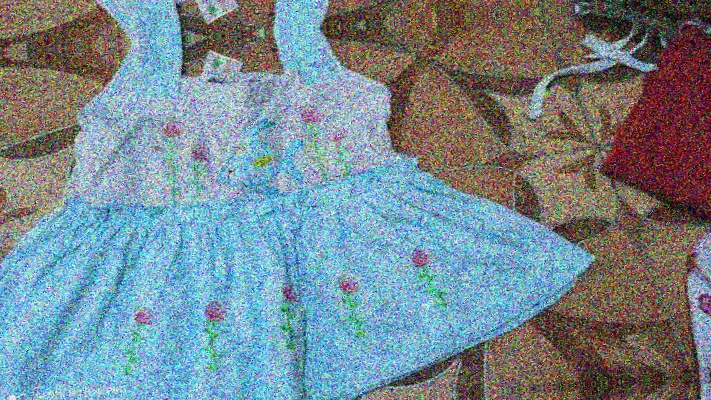Dress: (0, 12, 598, 400), (0, 0, 568, 52), (0, 386, 626, 400)
